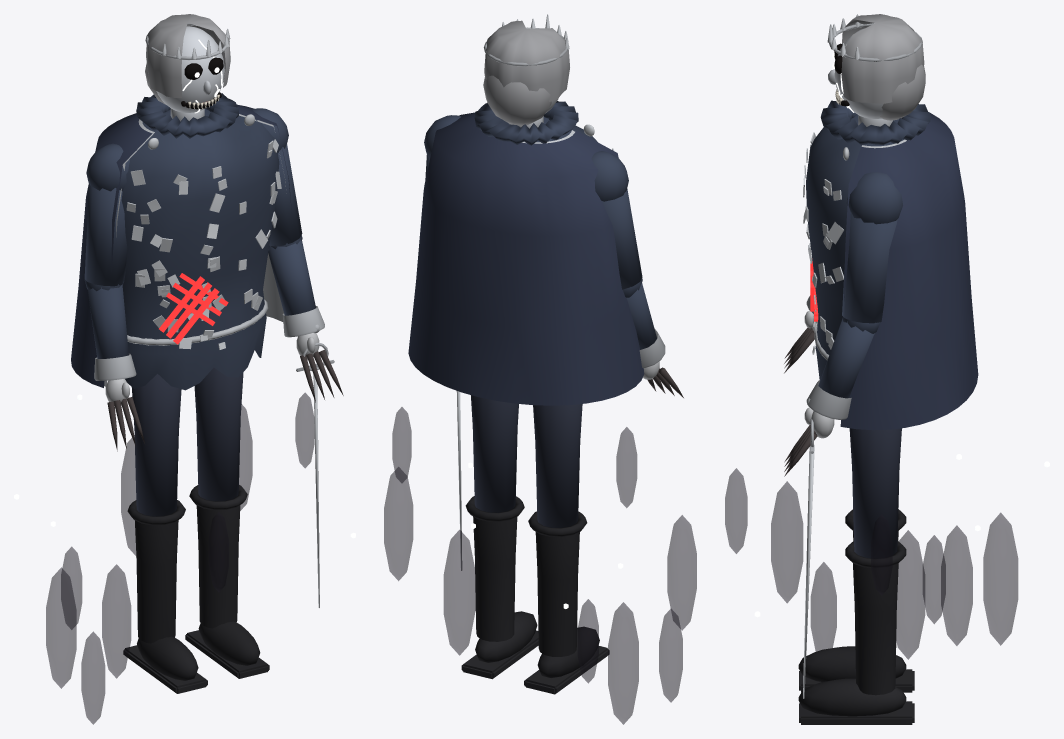
File: silvered_prince.glb
The picture shows the model from 3 angles, left to right: view 1: azimuth 30°, elevation 25°; view 2: azimuth 150°, elevation 25°; view 3: azimuth 270°, elevation 25°; orthographic projection. The views are drawn at different scales.
Parts seen in each view (by area): view 1: Prince_Root_PrinceDoublet, Prince_Root_HSmoke, LegB_PrinceBoot, LegA_PrinceBoot, ArmA_PrinceDoublet, LegLegA, LegLegB, ArmB_PrinceDoublet, Prince_Root_PrinceShard, Cape, Head_PrinceHair, Head_PrinceSkin (+9 smaller); view 2: Cape, Prince_Root_HSmoke, LegA_PrinceBoot, LegB_PrinceBoot, Head_PrinceHair, LegLegA, LegLegB, ArmA_PrinceDoublet, Prince_Root_PrinceDoublet, ArmB_PrinceDoublet, Blade, CuffArmA; view 3: Cape, Prince_Root_HSmoke, LegB_PrinceBoot, Prince_Root_PrinceDoublet, ArmB_PrinceDoublet, Head_PrinceHair, LegLegB, LegA_PrinceBoot, Prince_Root_PrinceShard, ArmB_PrinceTrim, Head_PrinceSkin, Blade (+3 smaller).
Part boxes in pixels (box(x1,y1,x2,y2)): Prince_Root_PrinceDoublet: box(121, 93, 279, 390); Prince_Root_HSmoke: box(46, 392, 314, 724); LegB_PrinceBoot: box(185, 485, 269, 678); LegA_PrinceBoot: box(123, 500, 207, 693); ArmA_PrinceDoublet: box(84, 143, 129, 358); LegLegA: box(131, 374, 181, 516); LegLegB: box(194, 367, 243, 501); ArmB_PrinceDoublet: box(252, 108, 315, 315); Prince_Root_PrinceShard: box(126, 139, 281, 349); Cape: box(71, 104, 292, 387); Head_PrinceHair: box(145, 14, 230, 104); Head_PrinceSkin: box(156, 26, 224, 121); Cape: box(408, 112, 644, 405); Prince_Root_HSmoke: box(384, 407, 696, 724); LegA_PrinceBoot: box(524, 511, 609, 694); LegB_PrinceBoot: box(461, 496, 538, 679); Head_PrinceHair: box(483, 20, 569, 125); LegLegA: box(533, 404, 582, 527); LegLegB: box(471, 395, 518, 512); ArmA_PrinceDoublet: box(591, 151, 656, 349); Prince_Root_PrinceDoublet: box(474, 101, 597, 145); ArmB_PrinceDoublet: box(424, 115, 460, 179); Blade: box(456, 391, 462, 570); CuffArmA: box(639, 328, 665, 367); Cape: box(840, 113, 978, 430); Prince_Root_HSmoke: box(725, 468, 1018, 659); LegB_PrinceBoot: box(798, 541, 914, 724); Prince_Root_PrinceDoublet: box(806, 100, 930, 379); ArmB_PrinceDoublet: box(818, 172, 902, 398); Head_PrinceHair: box(841, 14, 925, 120); LegLegB: box(849, 428, 901, 558); LegA_PrinceBoot: box(798, 509, 914, 692); Prince_Root_PrinceShard: box(803, 132, 843, 354); ArmB_PrinceTrim: box(806, 380, 851, 453); Head_PrinceSkin: box(828, 28, 892, 126); Blade: box(803, 445, 814, 698).
Size of the model in its own units: 0.765 by 1.82 by 0.7661.
